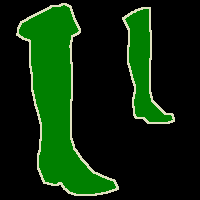shoe: (17, 3, 118, 195), (123, 8, 174, 123)
